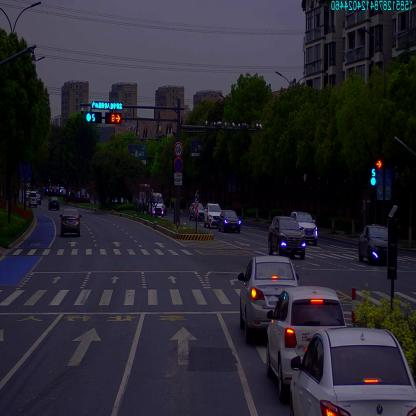traffic-light: (91, 101, 122, 110), (107, 114, 122, 124), (87, 113, 101, 122)
